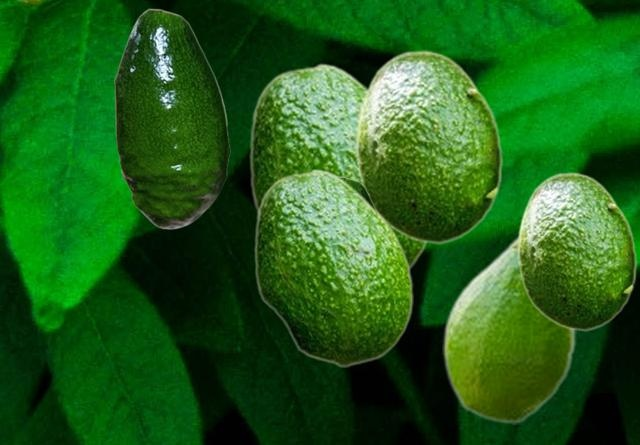avocado: (248, 62, 428, 271), (253, 168, 412, 366), (354, 50, 502, 243), (442, 231, 575, 423), (114, 8, 229, 228), (516, 172, 636, 330), (340, 176, 375, 206)
